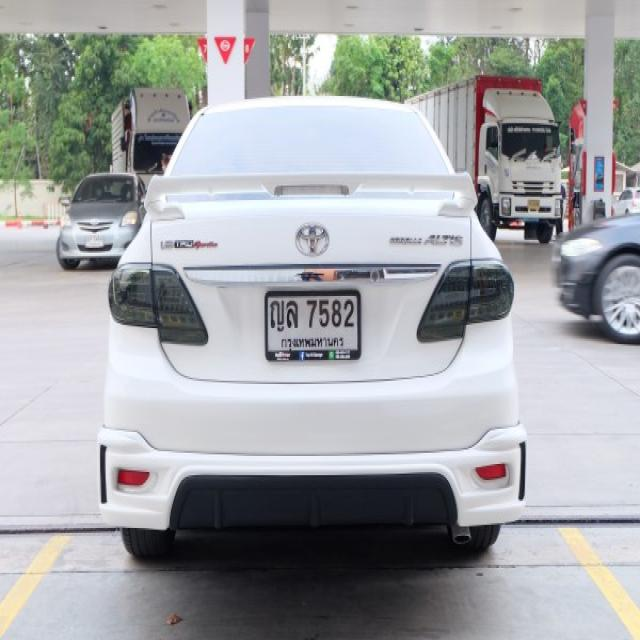license_plate: (262, 284, 362, 368)
